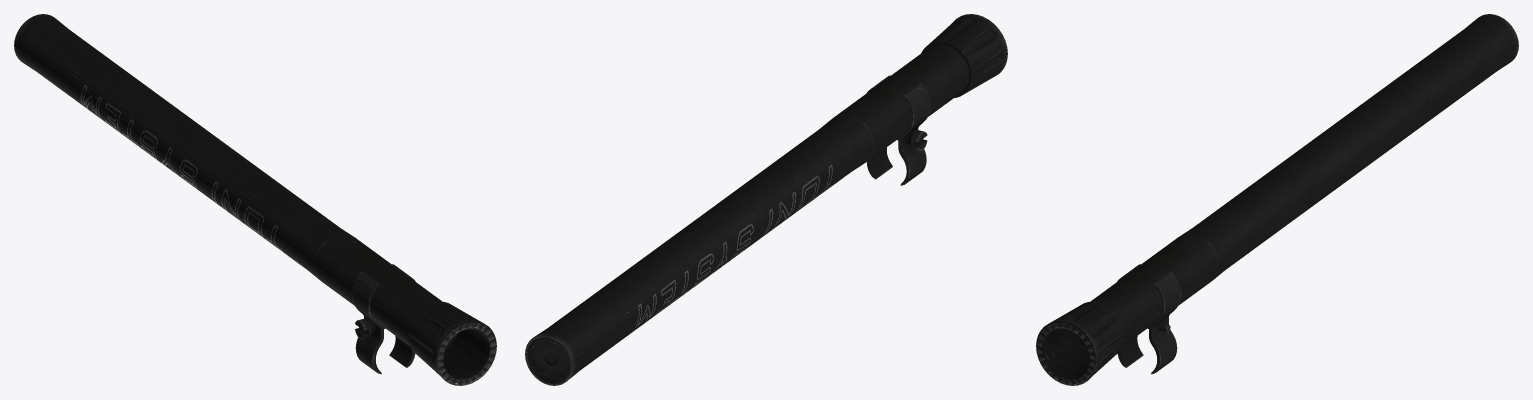
The picture shows the model from 3 angles, left to right: view 1: azimuth 30°, elevation 25°; view 2: azimuth 150°, elevation 25°; view 3: azimuth 330°, elevation 25°; orthographic projection.
Parts seen in each view (by area): view 1: TW_625ff3046d721f05d93bf2ee_PZ_Import; view 2: TW_625ff3046d721f05d93bf2ee_PZ_Import; view 3: TW_625ff3046d721f05d93bf2ee_PZ_Import.
Boxes of the visible parts, box(x1,y1,x2,y2) form: TW_625ff3046d721f05d93bf2ee_PZ_Import: box(14, 14, 496, 385); TW_625ff3046d721f05d93bf2ee_PZ_Import: box(525, 14, 1007, 385); TW_625ff3046d721f05d93bf2ee_PZ_Import: box(1036, 14, 1518, 385).
Size of the model in its own units: 0.02 by 0.2457 by 0.0324.
1 material, 1 textured.
